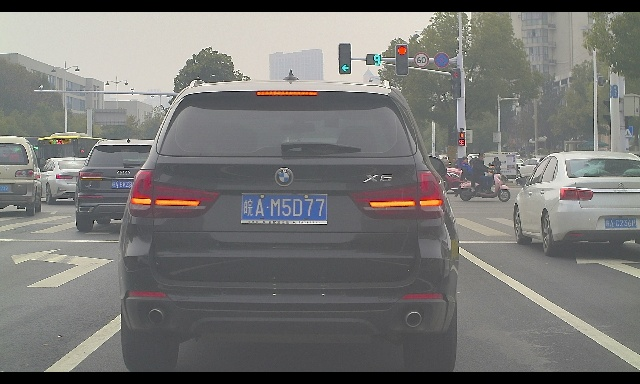bicycle: (457, 153, 511, 202), (488, 157, 502, 185)
bus: (38, 132, 108, 199)
car: (118, 70, 459, 372), (513, 151, 640, 256), (75, 138, 171, 232), (0, 136, 46, 216), (30, 157, 101, 205), (396, 164, 470, 193), (515, 158, 550, 178)
